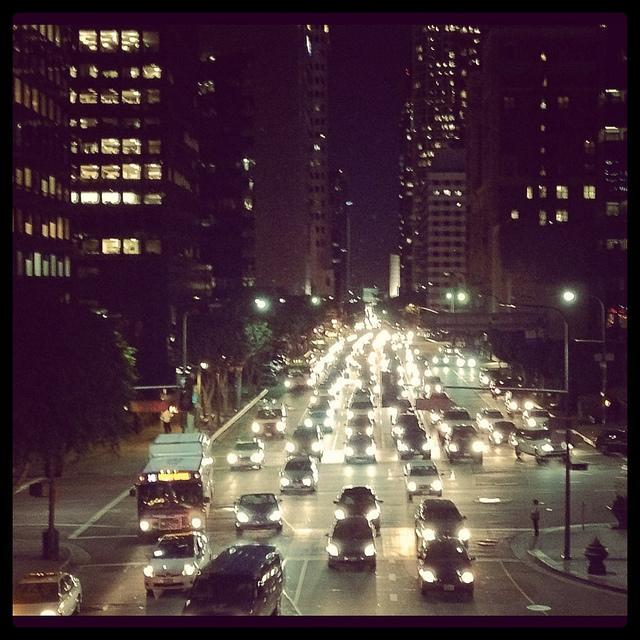fire_hydrant: (584, 537, 610, 575)
